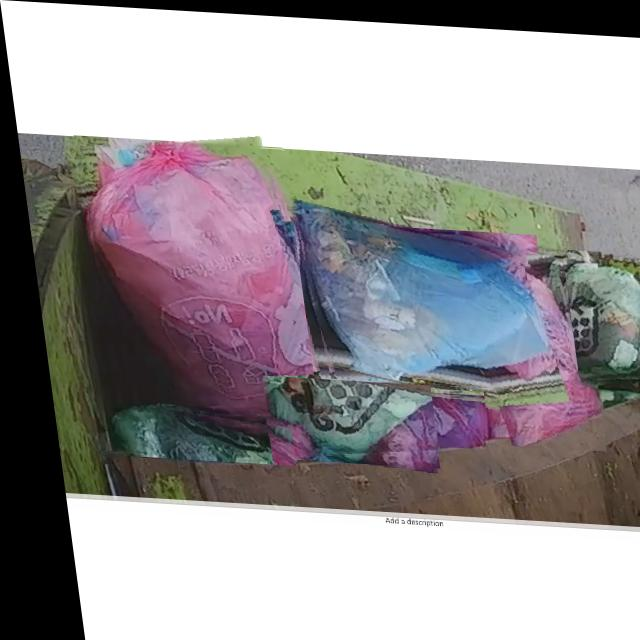general_trashbag: (257, 375, 422, 453), (101, 405, 283, 462), (559, 244, 639, 373)
other_trashbag: (85, 141, 306, 415), (289, 198, 545, 378), (468, 255, 591, 441), (345, 382, 475, 443)
